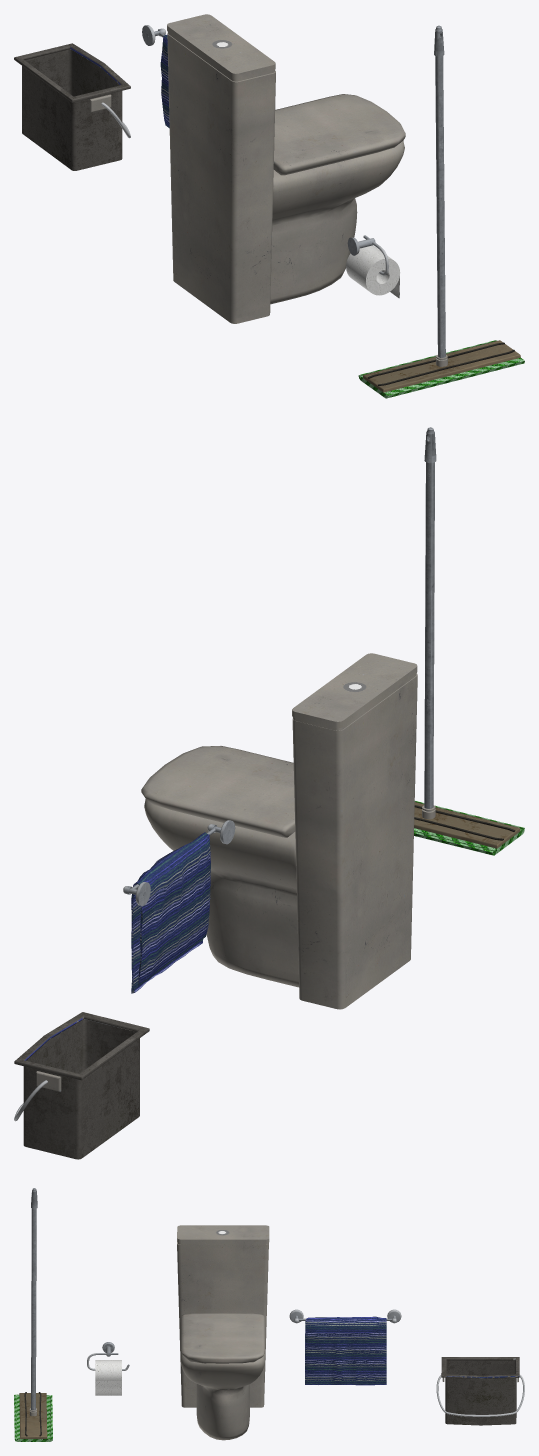
The model's file is bathroom_set.fbx.
3 renders of one model, top to bottom at view 1: azimuth 30°, elevation 25°; view 2: azimuth 150°, elevation 25°; view 3: azimuth 270°, elevation 25°, orthographic. The views are drawn at different scales.
Parts seen in each view (by area): view 1: SM_klozet, SM_Kova, SM_Paspas, SM_Pecetelik, SM_Havluluk; view 2: SM_klozet, SM_Kova, SM_Havluluk, SM_Paspas; view 3: SM_klozet, SM_Havluluk, SM_Kova, SM_Paspas, SM_Pecetelik.
Part boxes in pixels (x1,y1,x2,y2): SM_klozet: [167, 14, 405, 323]; SM_Kova: [14, 43, 130, 170]; SM_Paspas: [358, 25, 524, 398]; SM_Pecetelik: [346, 235, 400, 298]; SM_Havluluk: [142, 25, 169, 128]; SM_klozet: [141, 653, 417, 1009]; SM_Kova: [14, 1012, 149, 1159]; SM_Havluluk: [123, 820, 235, 993]; SM_Paspas: [414, 427, 524, 855]; SM_klozet: [177, 1225, 269, 1440]; SM_Havluluk: [289, 1309, 401, 1385]; SM_Kova: [436, 1357, 524, 1425]; SM_Paspas: [14, 1188, 52, 1441]; SM_Pecetelik: [87, 1342, 129, 1395].
Bounding box in the file's own units: 79.71 × 145 × 281.
